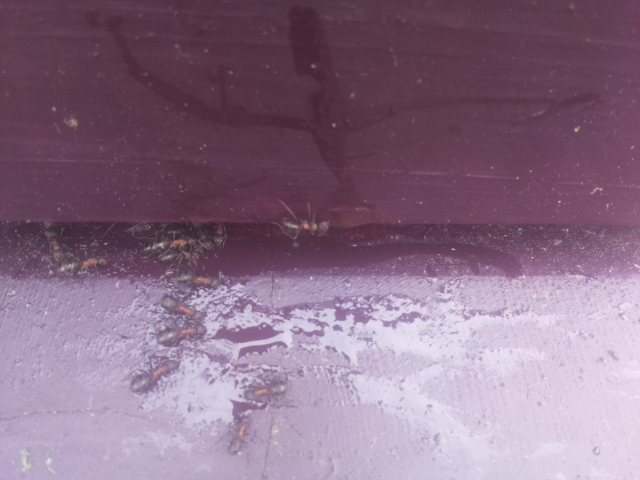ant: (121, 350, 185, 401), (37, 218, 77, 273), (274, 210, 339, 237), (151, 291, 206, 322), (56, 251, 113, 277), (245, 374, 294, 404), (225, 410, 252, 461), (154, 324, 209, 347), (169, 269, 224, 289)
